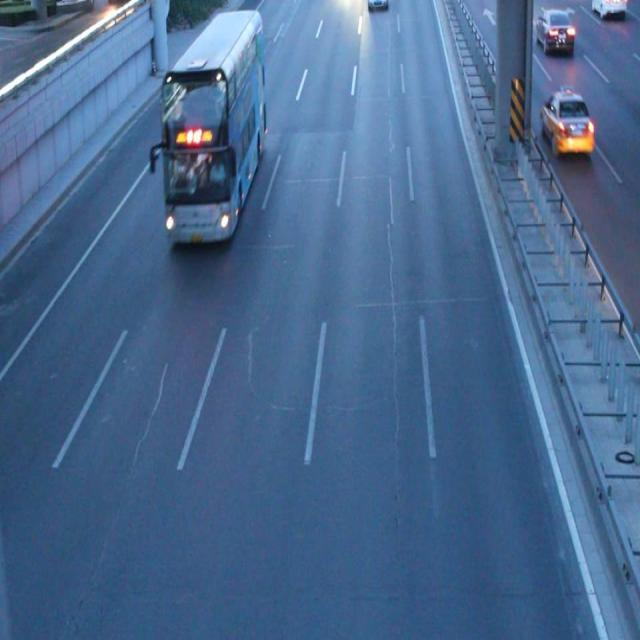car: (540, 86, 592, 156), (534, 9, 574, 53)
van: (160, 14, 263, 241)
